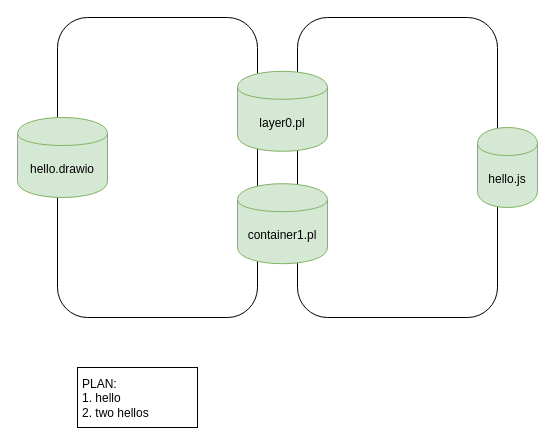
Some shapes in this 555 by 445 pixel diagram are drawn without their labels. The box of each missing label's shape, as (x1, y1, x2, y2) in pixels:
input: (56, 16, 258, 318)
output: (296, 16, 498, 318)
